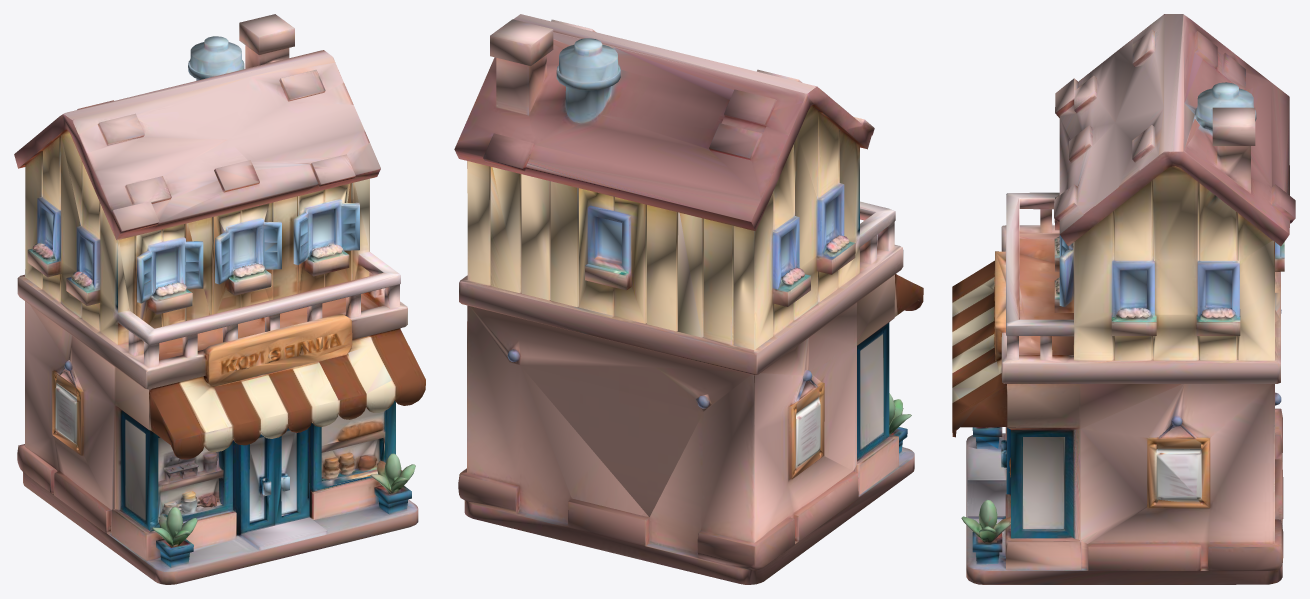
The model's file is kopi-senja.glb.
3 views of the same model, side by side, from view 1: azimuth 30°, elevation 25°; view 2: azimuth 150°, elevation 25°; view 3: azimuth 270°, elevation 25° (orthographic). The views are drawn at different scales.
Visible parts, largest first — view 1: node_0; view 2: node_0; view 3: node_0.
Boxes of the visible parts, left/top/right/bottom form: node_0: left=14, top=14, right=425, bottom=584; node_0: left=454, top=14, right=923, bottom=584; node_0: left=952, top=14, right=1295, bottom=584.
Size of the model in its own units: 0.6305 by 0.8978 by 0.6197.
Materials: 1 (1 with a texture image).
